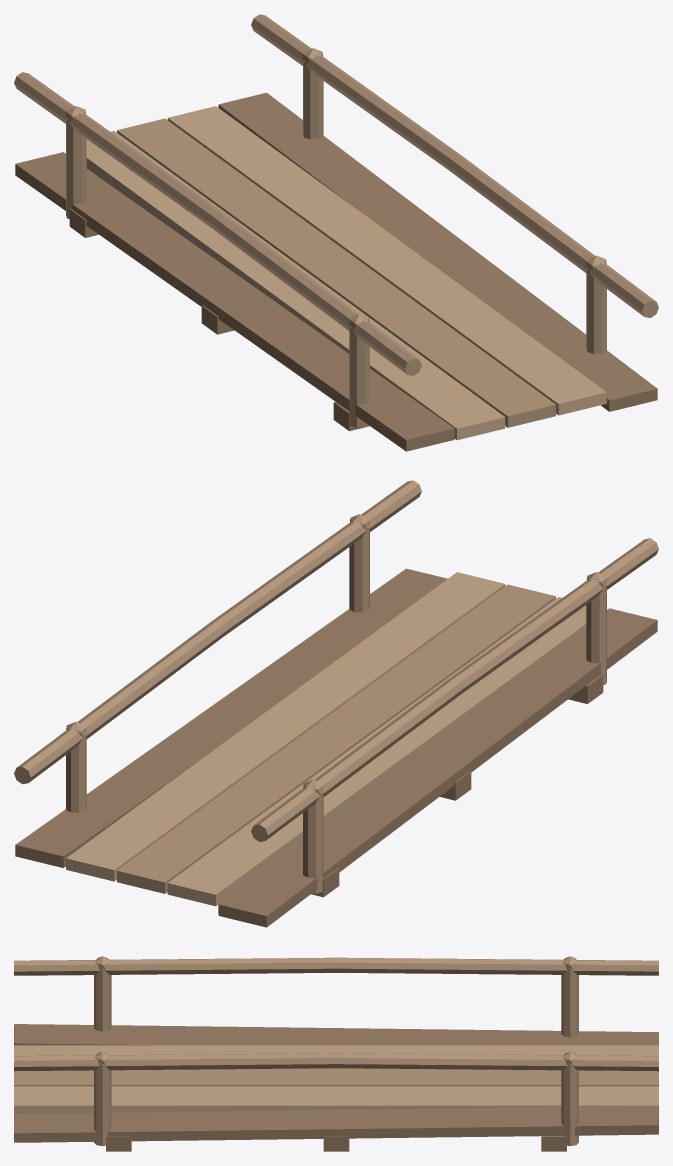
File: bridge_v1.glb
The picture shows the model from 3 angles, top to bottom: view 1: azimuth 30°, elevation 25°; view 2: azimuth 150°, elevation 25°; view 3: azimuth 270°, elevation 25°; orthographic projection. The views are drawn at different scales.
Visible parts, largest first — view 1: Plank.0, Plank.2, Plank.3, Plank.4, Plank.1, Rail.-1, Rail.1, Post.-1.-1.45, Post.-1.1.45, Post.1.-1.45, Post.1.1.45; view 2: Plank.0, Plank.3, Plank.2, Plank.4, Plank.1, Rail.1, Rail.-1, Post.-1.1.45, Post.1.-1.45, Post.-1.-1.45, Post.1.1.45; view 3: Plank.4, Plank.3, Plank.0, Plank.2, Rail.-1, Rail.1, Plank.1, Post.1.-1.45, Post.1.1.45, Post.-1.1.45, Post.-1.-1.45, Joist.0.0 (+2 smaller).
Part boxes in pixels (box(x1,y1,x2,y2)): Plank.0: box(15, 152, 454, 451); Plank.2: box(117, 118, 555, 427); Plank.3: box(167, 106, 606, 415); Plank.4: box(218, 92, 657, 411); Plank.1: box(86, 131, 505, 440); Rail.-1: box(14, 72, 421, 375); Rail.1: box(251, 14, 658, 318); Post.-1.-1.45: box(349, 326, 369, 427); Post.-1.1.45: box(66, 118, 86, 218); Post.1.-1.45: box(586, 268, 606, 354); Post.1.1.45: box(303, 60, 323, 139); Plank.0: box(218, 608, 657, 927); Plank.3: box(66, 572, 505, 881); Plank.2: box(117, 584, 555, 893); Plank.4: box(15, 568, 447, 867); Plank.1: box(167, 597, 586, 906); Rail.1: box(14, 480, 421, 784); Rail.-1: box(251, 538, 658, 841); Post.-1.1.45: box(303, 792, 323, 893); Post.1.-1.45: box(349, 526, 369, 612); Post.-1.-1.45: box(586, 584, 606, 684); Post.1.1.45: box(66, 734, 86, 812); Plank.4: box(14, 1105, 658, 1142); Plank.3: box(14, 1086, 658, 1113); Plank.0: box(14, 1024, 658, 1045); Plank.2: box(14, 1068, 658, 1086); Rail.-1: box(14, 957, 658, 975); Rail.1: box(14, 1053, 658, 1071); Plank.1: box(14, 1045, 658, 1055); Post.1.-1.45: box(94, 1063, 111, 1146); Post.1.1.45: box(561, 1063, 578, 1146); Post.-1.1.45: box(561, 968, 578, 1037); Post.-1.-1.45: box(94, 968, 111, 1031); Joist.0.0: box(323, 1136, 349, 1151).
Bounding box in the file's own units: 1.51 × 0.662 × 4.
